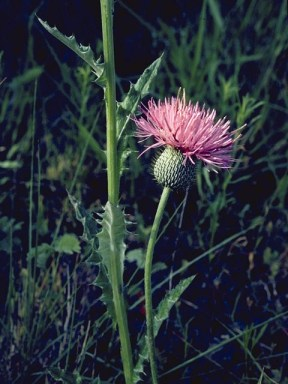thistle: (135, 99, 235, 192)
